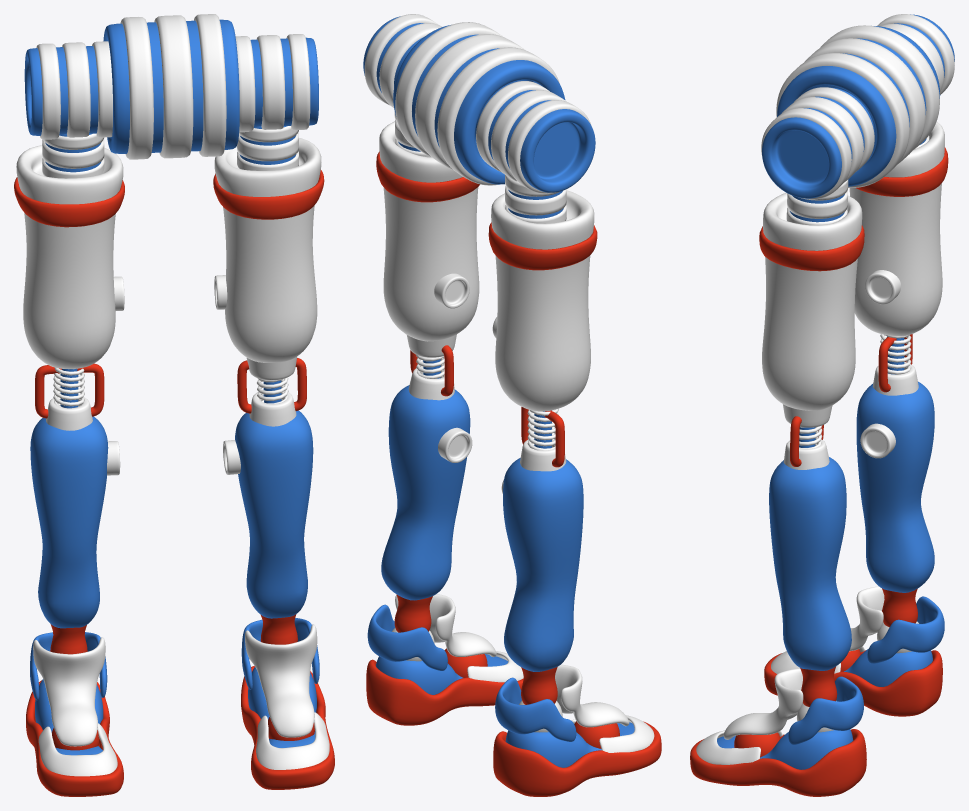
The model's file is robot-leg-3d-animated-icon-1011314629805.glb.
The picture shows the model from 3 angles, left to right: view 1: azimuth 30°, elevation 25°; view 2: azimuth 150°, elevation 25°; view 3: azimuth 270°, elevation 25°; orthographic projection. The views are drawn at different scales.
Parts seen in each view (by area): view 1: Cube.284, Cube.038, Cylinder.001, Cylinder.407, Cube.287, Sphere.108, Cylinder.412, Cylinder.416, Cylinder.414, Cylinder.411, Cylinder.415, Cylinder.413 (+2 smaller); view 2: Cube.038, Cube.284, Cylinder.407, Cylinder.001, Sphere.108, Cube.287, Cylinder.412, Cylinder.416, Cylinder.415, Cylinder.411, Cylinder.414, Cylinder.050 (+2 smaller); view 3: Cube.284, Cube.038, Cylinder.407, Cylinder.001, Cube.287, Sphere.108, Cylinder.412, Cylinder.414, Cylinder.413, Cylinder.411, Cylinder.416, Cylinder.408 (+1 smaller).
Part boxes in pixels (x1,y1,x2,y2): Cube.284: (213, 138, 324, 413); Cube.038: (14, 145, 124, 418); Cylinder.001: (30, 397, 120, 628); Cylinder.407: (223, 391, 313, 618); Cube.287: (241, 618, 334, 789); Sphere.108: (26, 632, 123, 796); Cylinder.412: (120, 14, 226, 159); Cylinder.416: (36, 41, 112, 178); Cylinder.414: (235, 34, 310, 170); Cylinder.411: (103, 19, 239, 153); Cylinder.415: (24, 46, 98, 135); Cylinder.413: (250, 37, 318, 127); Cube.038: (488, 190, 597, 467); Cube.284: (376, 121, 479, 396); Cylinder.407: (381, 366, 472, 600); Cylinder.001: (501, 439, 583, 671); Sphere.108: (493, 664, 661, 796); Cube.287: (366, 594, 523, 725); Cylinder.412: (395, 22, 559, 185); Cylinder.416: (476, 81, 591, 223); Cylinder.415: (475, 83, 595, 192); Cylinder.411: (393, 25, 565, 184); Cylinder.414: (364, 14, 442, 157); Cylinder.050: (521, 667, 557, 704); Cube.284: (759, 192, 864, 466); Cube.038: (849, 121, 948, 392); Cylinder.407: (769, 439, 851, 670); Cylinder.001: (856, 362, 934, 592); Cube.287: (690, 668, 866, 796); Sphere.108: (764, 586, 944, 716); Cylinder.412: (776, 25, 939, 187); Cylinder.414: (761, 87, 874, 225); Cylinder.413: (762, 87, 874, 198); Cylinder.411: (777, 26, 940, 186); Cylinder.416: (877, 14, 954, 148); Cylinder.408: (800, 666, 837, 706).
Size of the model in its own units: 4.17 by 10.24 by 3.49.
